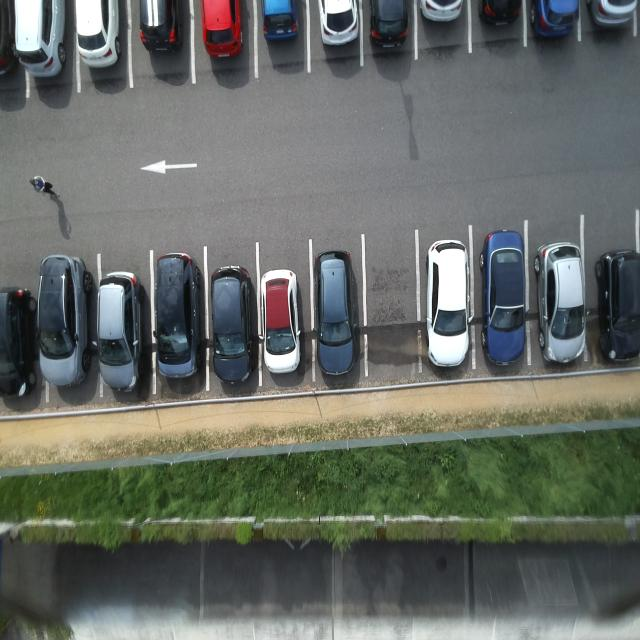car: (38, 253, 94, 388), (535, 240, 590, 371), (480, 226, 528, 372), (425, 239, 475, 374), (154, 251, 201, 388), (312, 250, 359, 381), (97, 271, 144, 397), (210, 264, 258, 387), (596, 245, 640, 372), (261, 268, 305, 377)
free_space: (363, 230, 424, 383)
